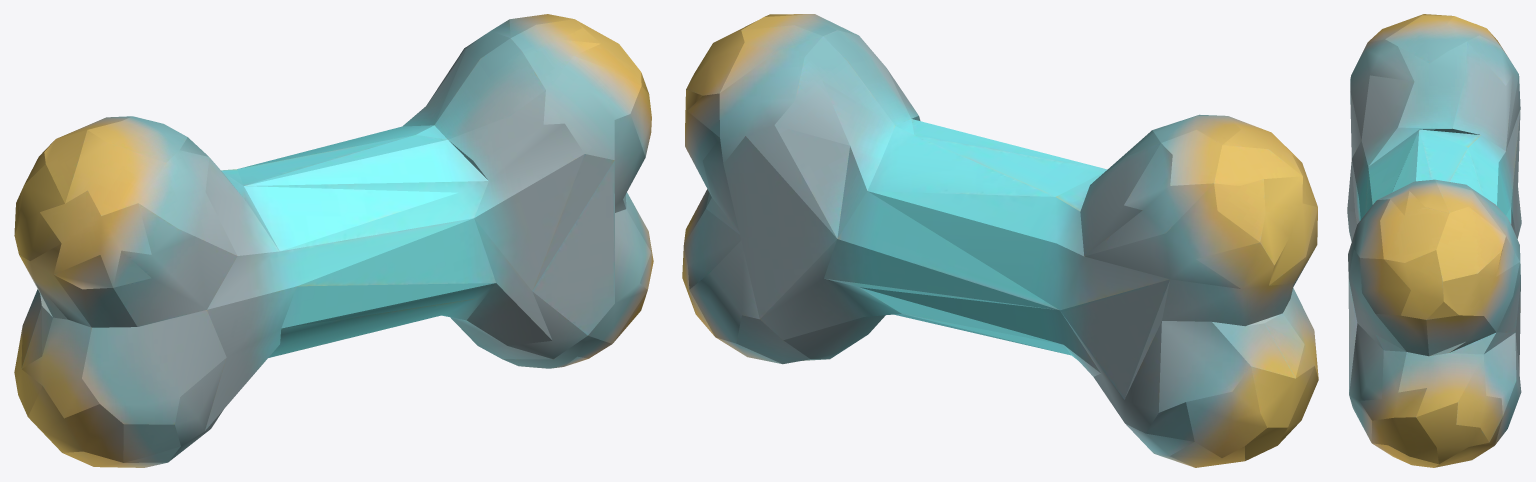
File: bone_projectile.glb
3 renders of one model, left to right at view 1: azimuth 30°, elevation 25°; view 2: azimuth 150°, elevation 25°; view 3: azimuth 270°, elevation 25°, orthographic. The views are drawn at different scales.
Size of the model in its own units: 1.9 by 0.9903 by 0.5776.
Materials: 1 (1 with a texture image).
